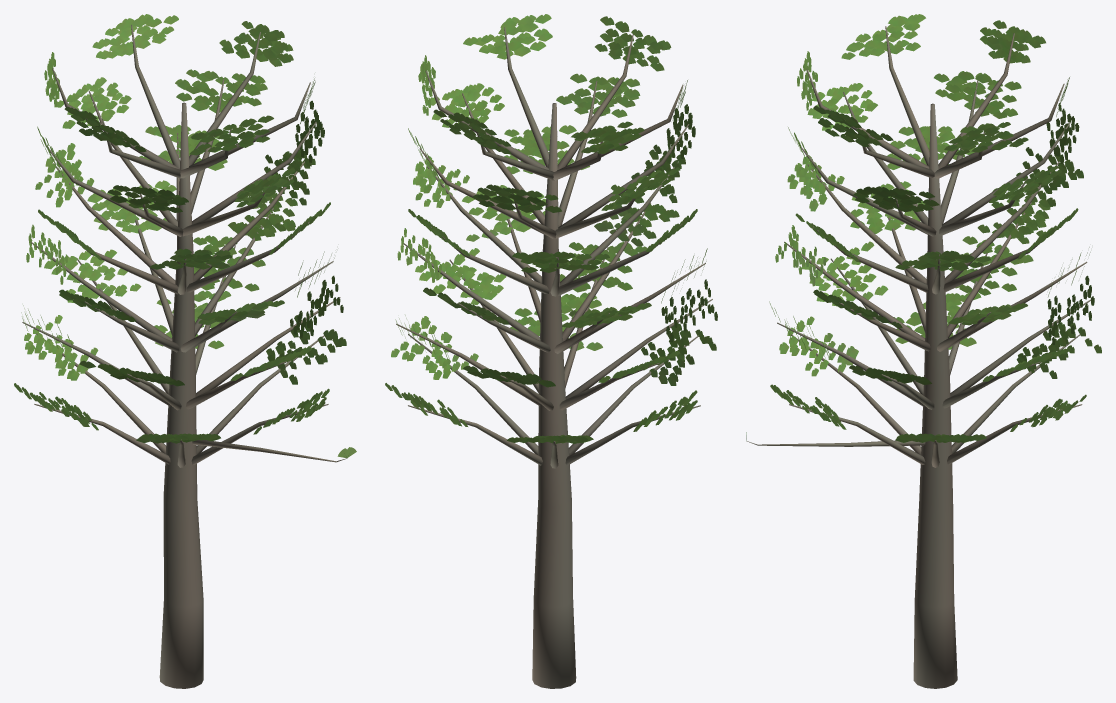
Rendered from city_ginkgo_hybrid.glb.
The picture shows the model from 3 angles, left to right: view 1: azimuth 30°, elevation 25°; view 2: azimuth 150°, elevation 25°; view 3: azimuth 270°, elevation 25°; orthographic projection.
Visible parts, largest first — view 1: GinkgoFanCanopy, GinkgoTrunkAndBranches; view 2: GinkgoFanCanopy, GinkgoTrunkAndBranches; view 3: GinkgoFanCanopy, GinkgoTrunkAndBranches.
Boxes of the visible parts, box(x1,y1,x2,y2) form: GinkgoFanCanopy: box(14, 14, 346, 443); GinkgoTrunkAndBranches: box(22, 25, 346, 688); GinkgoFanCanopy: box(385, 14, 717, 443); GinkgoTrunkAndBranches: box(396, 27, 712, 688); GinkgoFanCanopy: box(769, 14, 1101, 442); GinkgoTrunkAndBranches: box(746, 26, 1090, 688).
Size of the model in its own units: 2.37 by 4.7 by 2.48.
